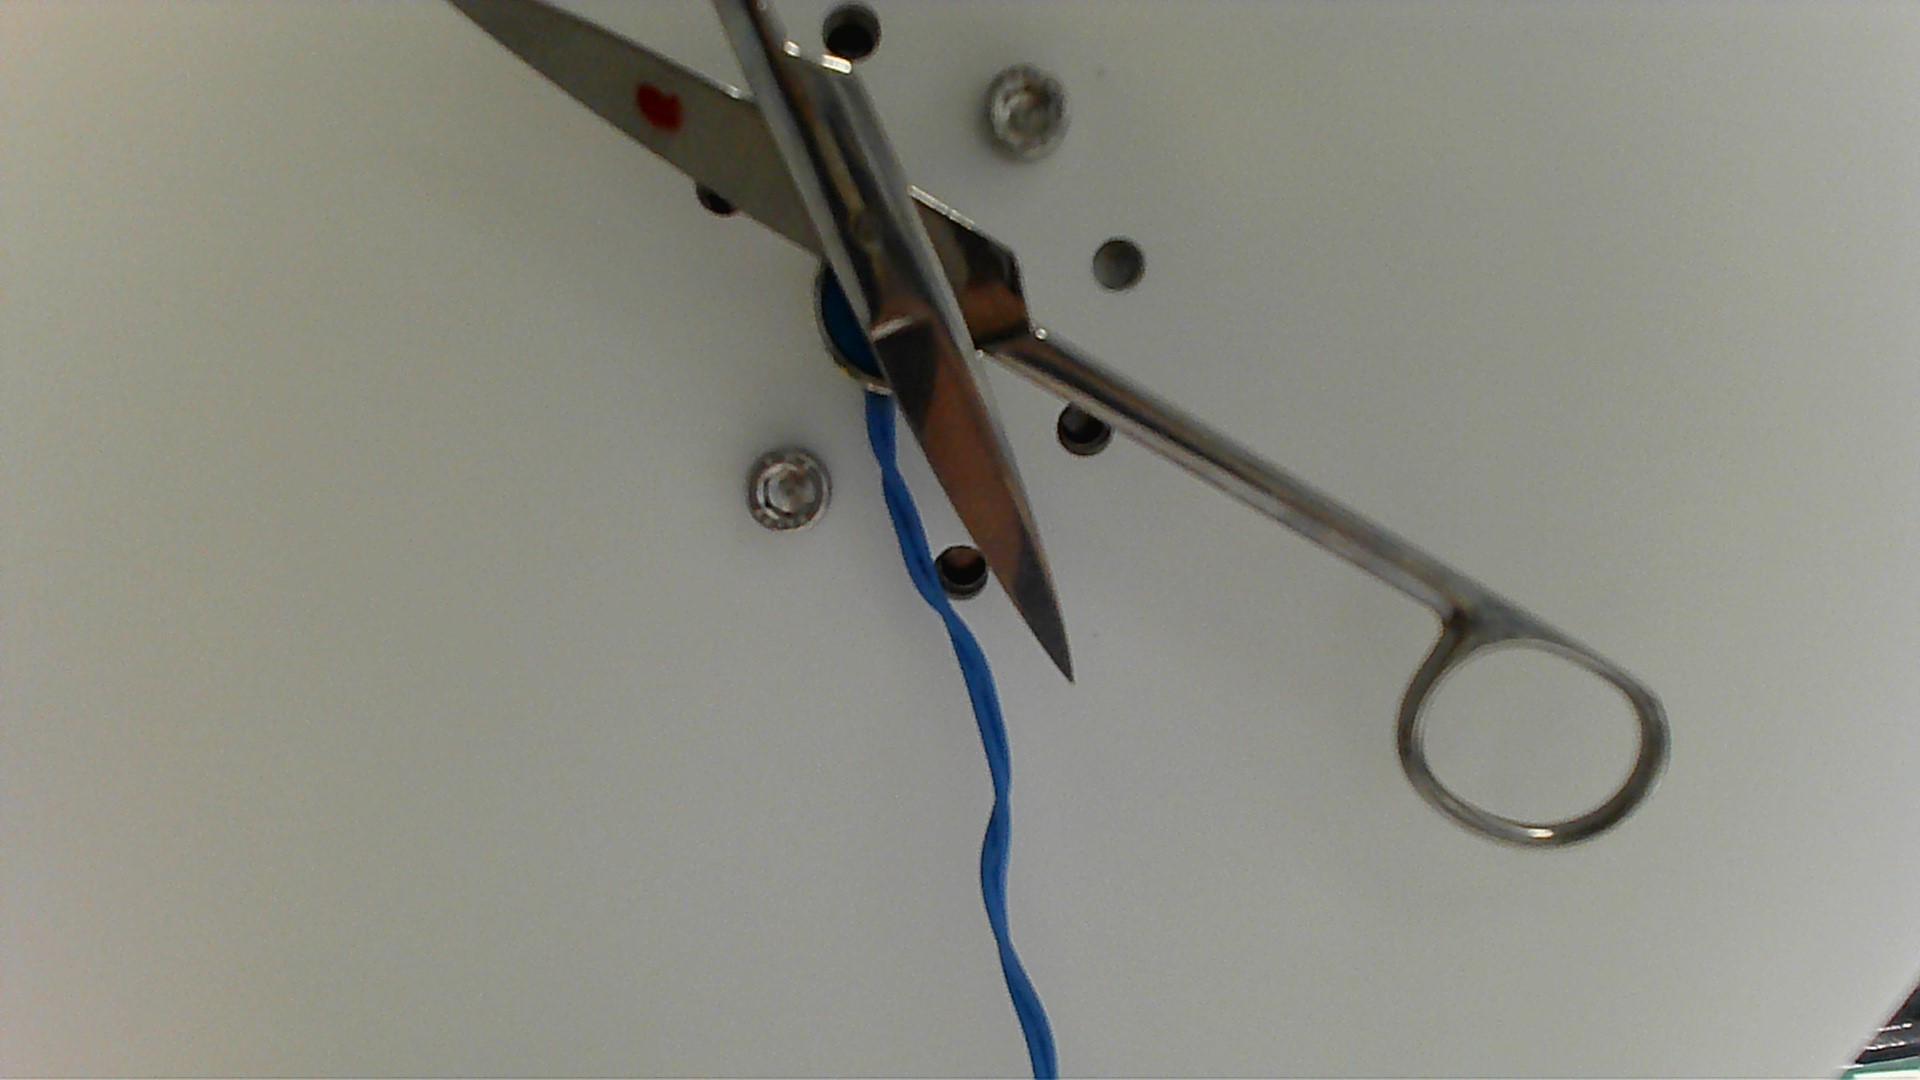Tissues: (629, 75, 698, 136)
